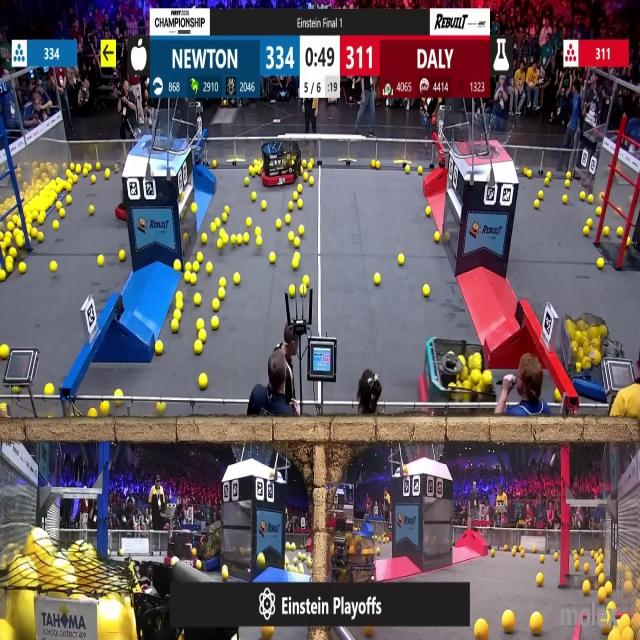ball_ground: (530, 614, 543, 636), (502, 612, 514, 634), (200, 374, 208, 390), (598, 588, 606, 604), (256, 554, 264, 570), (0, 345, 9, 359), (583, 582, 592, 596), (154, 342, 162, 356), (102, 401, 110, 415), (602, 622, 610, 636), (211, 317, 219, 330), (194, 342, 202, 355), (234, 273, 242, 286), (484, 372, 492, 385), (623, 631, 634, 640), (536, 572, 543, 586), (221, 566, 228, 580), (422, 284, 430, 296), (374, 274, 382, 286), (212, 300, 220, 312), (364, 626, 372, 638), (45, 384, 53, 395), (91, 409, 99, 420), (158, 404, 166, 415), (172, 320, 179, 332), (16, 236, 23, 248), (200, 329, 207, 341), (602, 226, 610, 236), (236, 236, 244, 246), (193, 293, 200, 304), (18, 264, 25, 275), (243, 234, 250, 245), (218, 288, 225, 299), (297, 224, 304, 235), (118, 250, 125, 261), (270, 252, 277, 263), (198, 319, 205, 330), (289, 285, 295, 297), (38, 212, 44, 224), (174, 262, 181, 272), (206, 264, 213, 274), (597, 258, 604, 268), (210, 222, 217, 232), (183, 273, 190, 283), (198, 252, 205, 262), (607, 601, 614, 611), (598, 574, 605, 584), (99, 254, 105, 265), (0, 271, 6, 282), (555, 390, 561, 401), (397, 253, 403, 264), (202, 234, 208, 245), (292, 260, 298, 271), (6, 263, 12, 274), (299, 285, 305, 296), (231, 235, 237, 246), (219, 278, 226, 287), (174, 311, 181, 320), (51, 220, 58, 229), (9, 248, 16, 257), (220, 214, 227, 223), (259, 201, 266, 210), (175, 302, 182, 311), (50, 263, 56, 273), (434, 233, 440, 243), (276, 218, 282, 228), (246, 217, 252, 227), (618, 226, 624, 236), (304, 276, 310, 286), (190, 204, 196, 214), (195, 561, 201, 571), (176, 290, 182, 300), (190, 275, 196, 285), (0, 240, 6, 250), (115, 389, 122, 397), (11, 386, 18, 394), (192, 264, 198, 273), (596, 207, 602, 216), (90, 206, 96, 215), (244, 177, 250, 186), (293, 239, 299, 248), (584, 226, 590, 235), (38, 234, 44, 243), (284, 214, 290, 223), (573, 561, 579, 570), (218, 230, 224, 239), (66, 182, 72, 191), (75, 166, 81, 175), (7, 222, 13, 231), (182, 234, 188, 243), (0, 402, 6, 411), (32, 230, 38, 239), (596, 565, 602, 574), (105, 170, 110, 180), (534, 200, 539, 210), (185, 264, 191, 272), (579, 191, 585, 199), (216, 240, 222, 248), (587, 218, 593, 226), (406, 165, 412, 173), (566, 172, 572, 180), (292, 191, 298, 199), (72, 175, 78, 183), (57, 202, 63, 210), (66, 170, 72, 178), (585, 564, 591, 572), (82, 168, 88, 176), (6, 255, 12, 263), (284, 559, 290, 567), (256, 238, 261, 247), (61, 209, 66, 218), (288, 203, 293, 212), (288, 233, 293, 242), (589, 193, 594, 202), (555, 553, 560, 562), (255, 226, 260, 235), (370, 161, 375, 170), (418, 168, 424, 175), (563, 194, 568, 202), (67, 197, 72, 205), (212, 161, 217, 169), (565, 182, 570, 190), (527, 170, 532, 178), (376, 162, 381, 170), (298, 566, 303, 574), (171, 558, 176, 566), (252, 191, 256, 200), (426, 207, 430, 216), (540, 555, 544, 564), (216, 216, 220, 225), (524, 168, 528, 177), (307, 180, 312, 187), (627, 239, 632, 246), (306, 162, 311, 169), (532, 545, 537, 552), (503, 543, 508, 550), (538, 190, 542, 198), (297, 201, 301, 209), (544, 178, 548, 186), (297, 184, 301, 192), (249, 168, 253, 176), (97, 164, 101, 172), (492, 550, 496, 558), (0, 234, 4, 242), (93, 176, 97, 183), (224, 207, 228, 214), (546, 172, 550, 179), (579, 550, 583, 557), (521, 552, 525, 559), (514, 550, 518, 557)
goal: (460, 118, 516, 158), (128, 116, 188, 152)
robot_blue: (557, 315, 628, 402), (189, 524, 224, 572)
robot_red: (422, 339, 485, 416), (261, 138, 302, 185)
